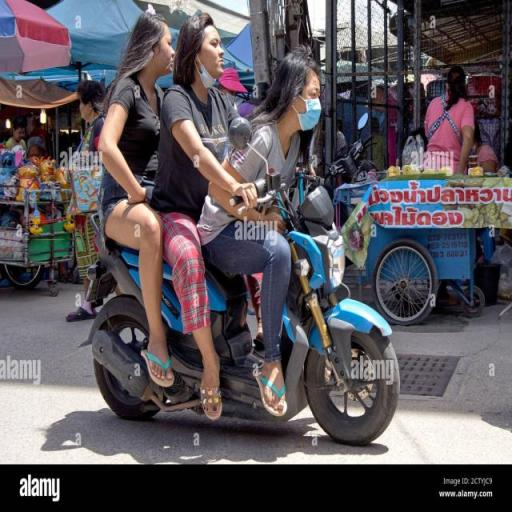tripple riding: (104, 4, 334, 419)
